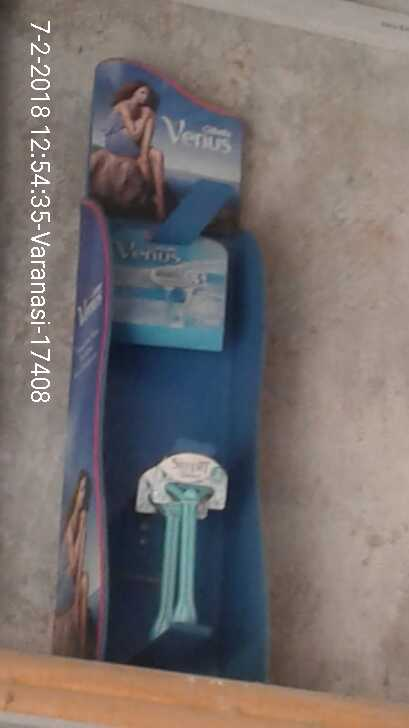venus: (99, 217, 233, 355)
